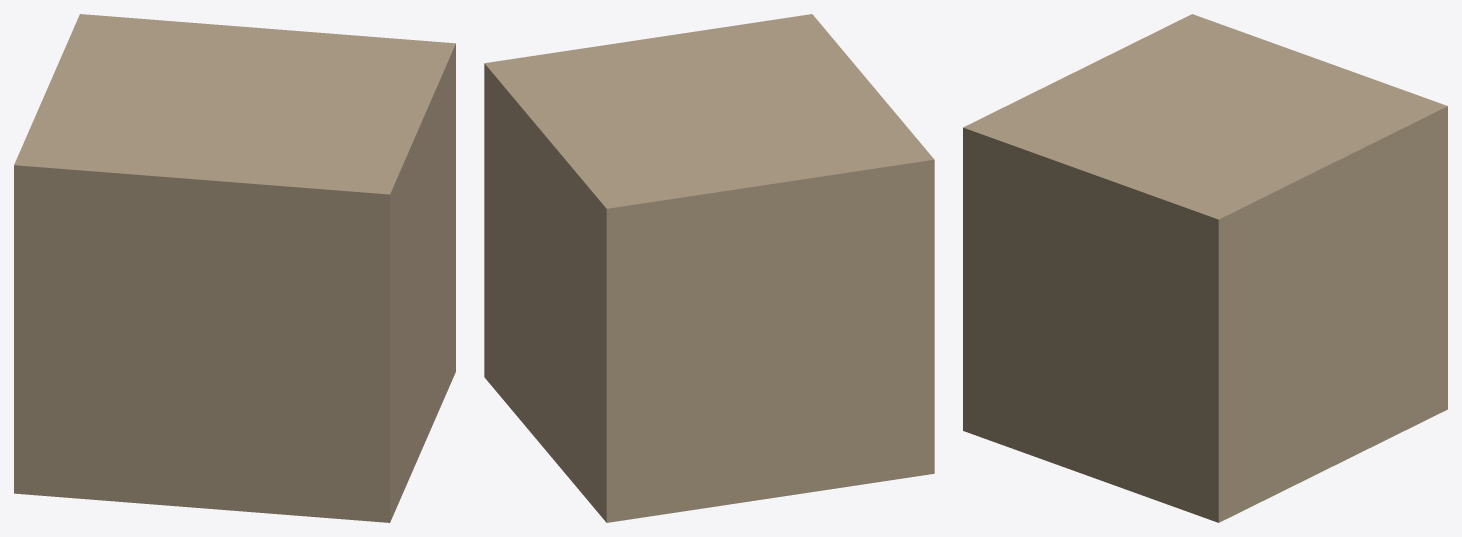
Rendered from bld_108162209.dae.
The picture shows the model from 3 angles, left to right: view 1: azimuth 30°, elevation 25°; view 2: azimuth 150°, elevation 25°; view 3: azimuth 270°, elevation 25°; orthographic projection. The views are drawn at different scales.
Parts seen in each view (by area): view 1: bld_108162209; view 2: bld_108162209; view 3: bld_108162209.
Part boxes in pixels (x1,y1,x2,y2): bld_108162209: (14, 14, 455, 522); bld_108162209: (484, 14, 934, 522); bld_108162209: (963, 14, 1447, 522).
Size of the model in its own units: 11.63 by 11.59 by 8.
